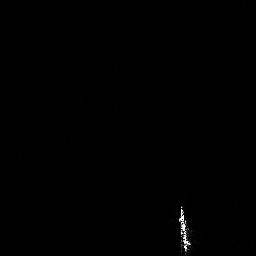ship: (174, 202, 195, 254)
